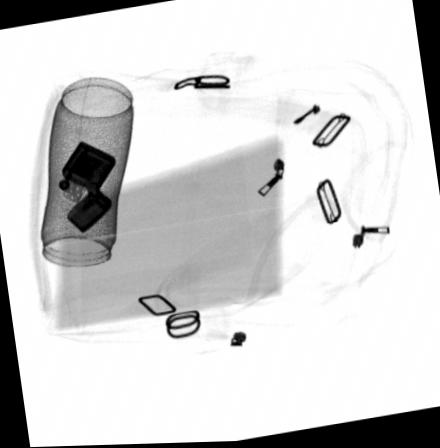Lighter: (56, 140, 117, 234)
